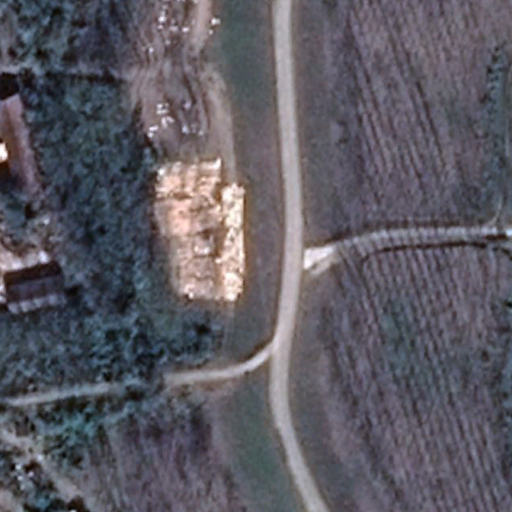msw: (155, 157, 245, 300)
